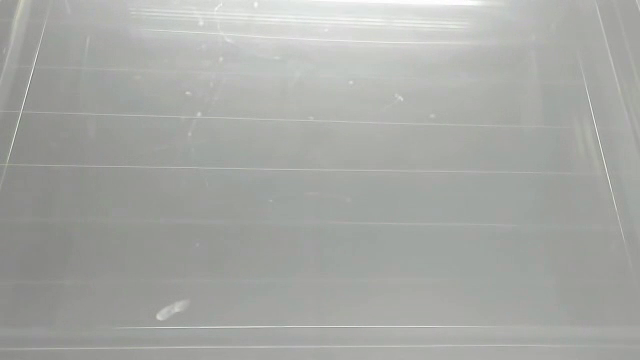alpha: (154, 297, 196, 323)
